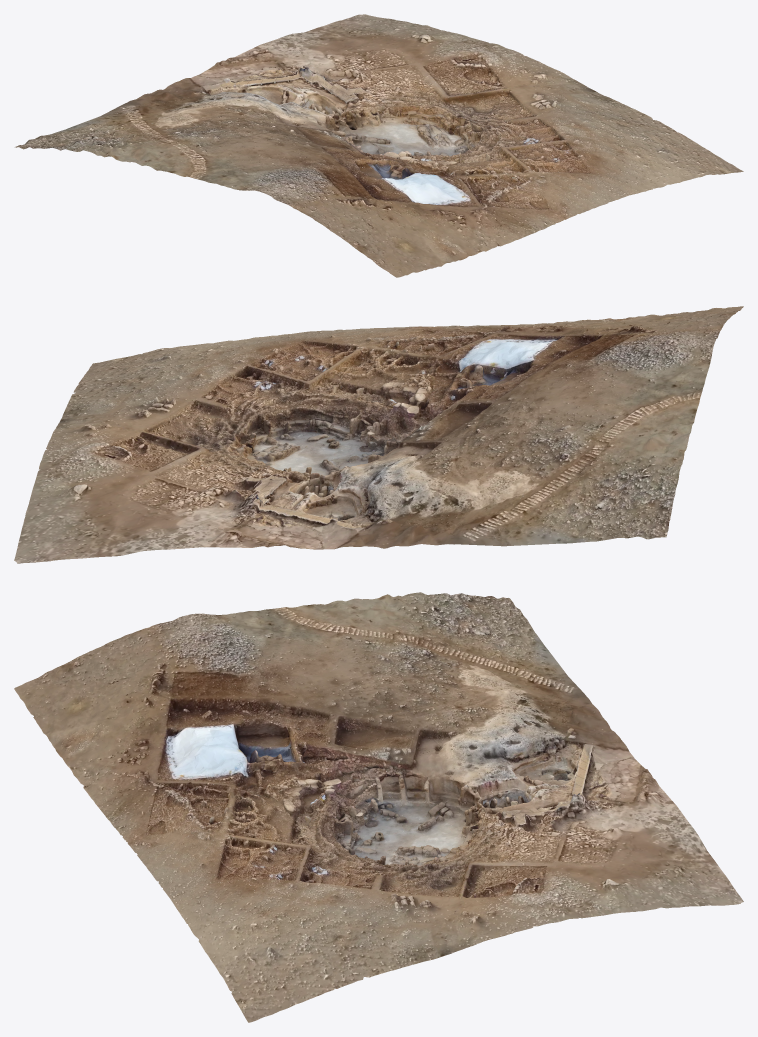
The model's file is karahan-scan.glb.
The picture shows the model from 3 angles, top to bottom: view 1: azimuth 30°, elevation 25°; view 2: azimuth 150°, elevation 25°; view 3: azimuth 270°, elevation 25°; orthographic projection. The views are drawn at different scales.
Parts seen in each view (by area): view 1: Model_material1_0, Model_material0_0; view 2: Model_material0_0, Model_material1_0; view 3: Model_material0_0, Model_material1_0.
Boxes of the visible parts, <box> form: Model_material1_0: <box>101,41,743,277</box>; Model_material0_0: <box>14,14,607,216</box>; Model_material0_0: <box>14,324,723,563</box>; Model_material1_0: <box>60,306,743,549</box>; Model_material0_0: <box>129,592,743,955</box>; Model_material1_0: <box>14,633,683,1022</box>.
Bounding box in the file's own units: 98.12 × 18.74 × 91.98.
Materials: 2 (2 with a texture image).
